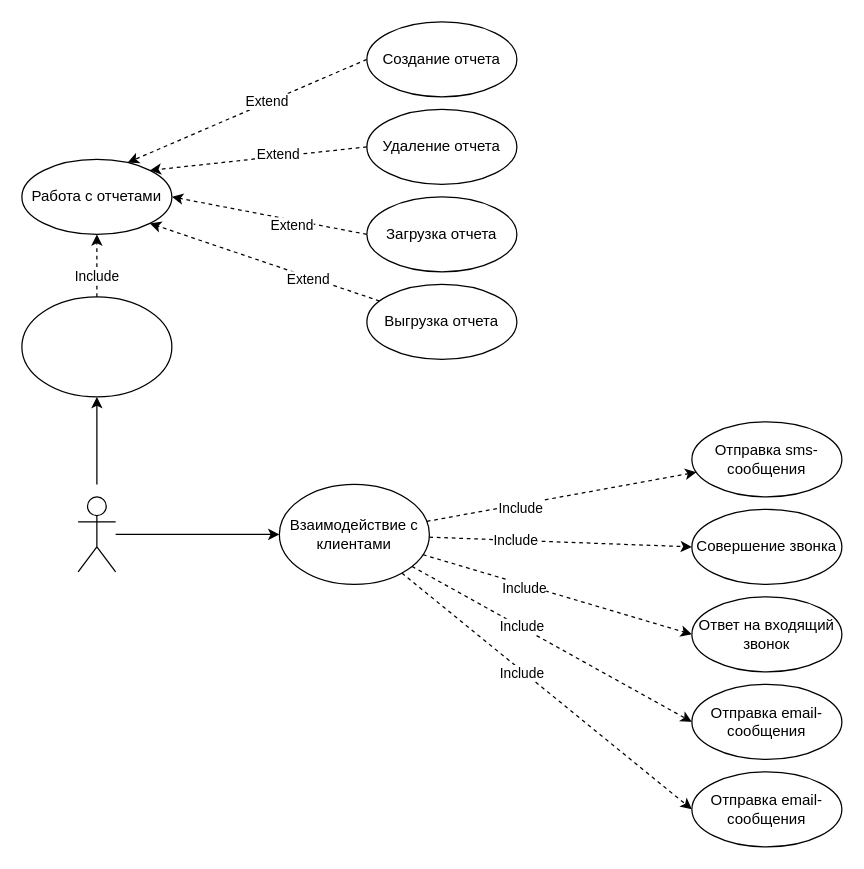
This 864x869 diagram has some shape labels left out. The box of each missing label's shape, as (x1, y1, x2, y2) in pixels:
Пользователь: (77, 496, 116, 572)
Работа со статистикой: (21, 296, 172, 397)
